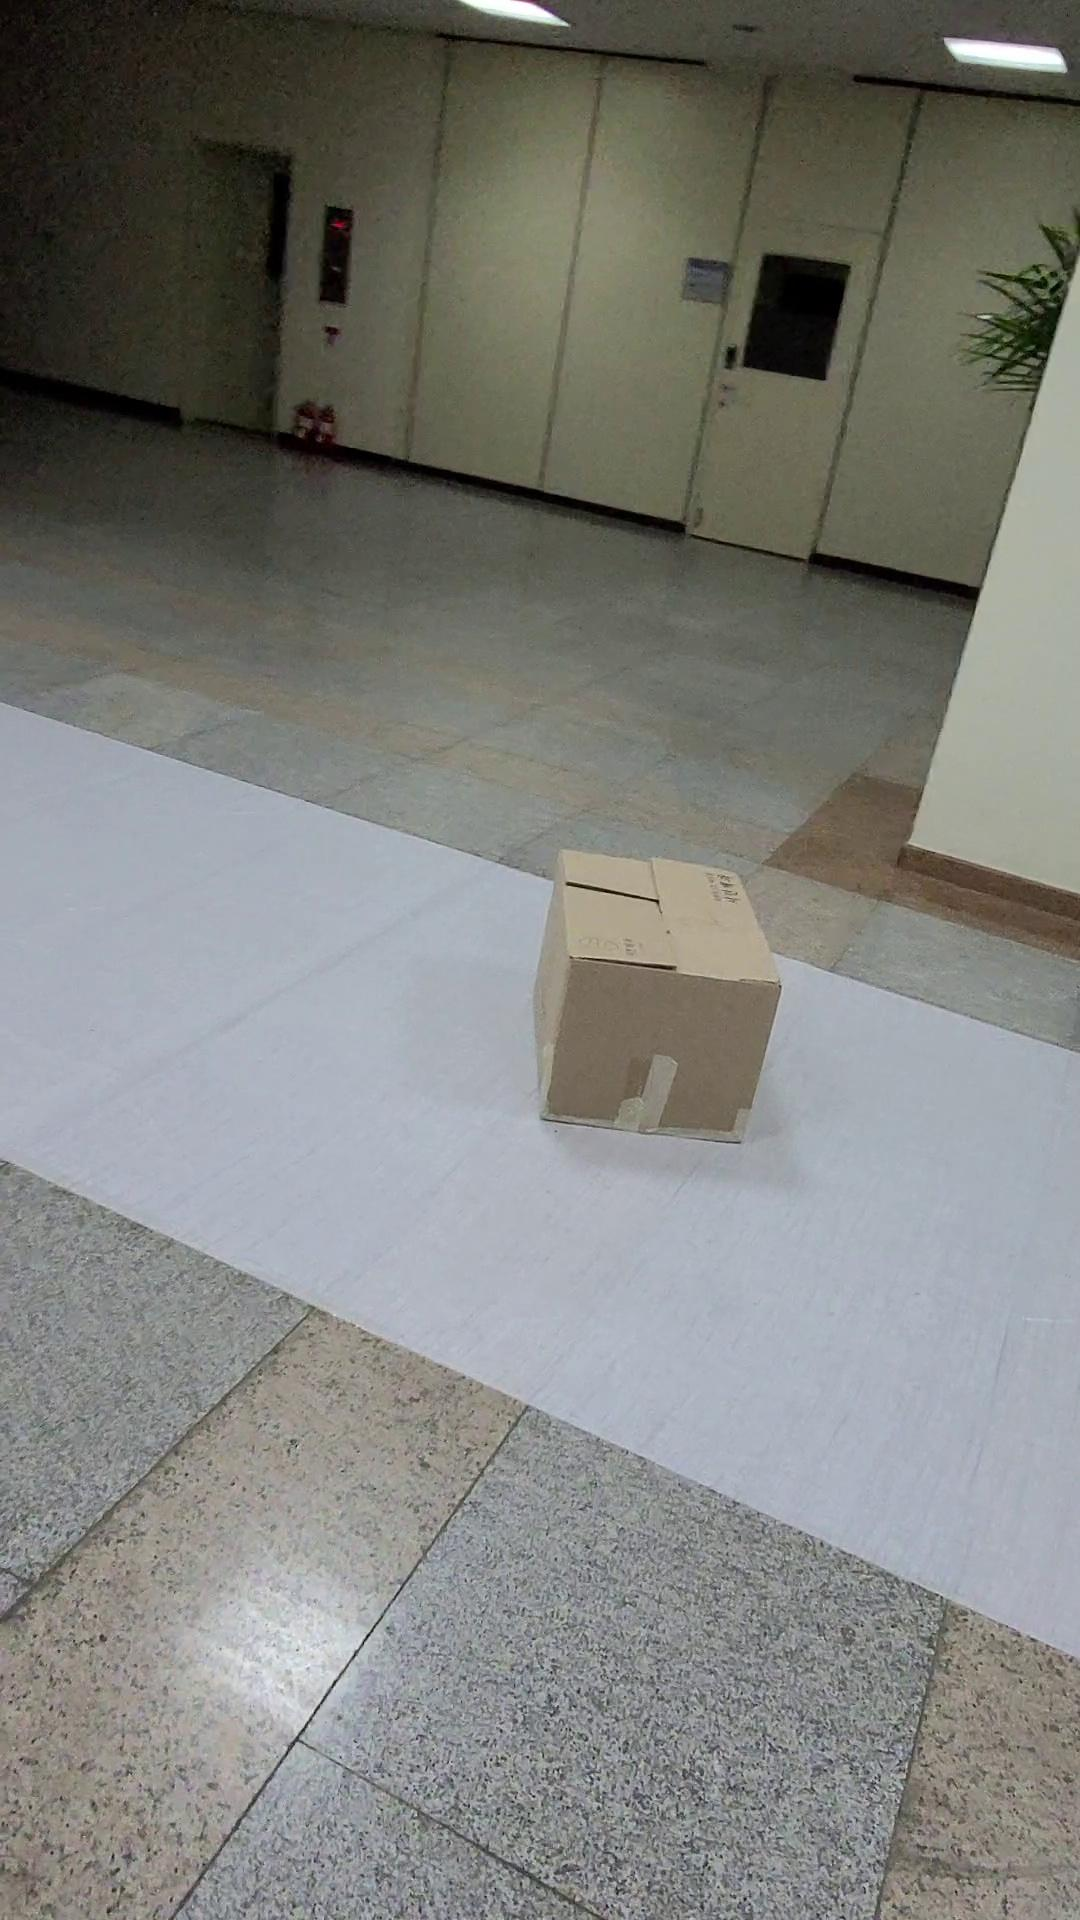Box: (518, 825, 808, 1180)
